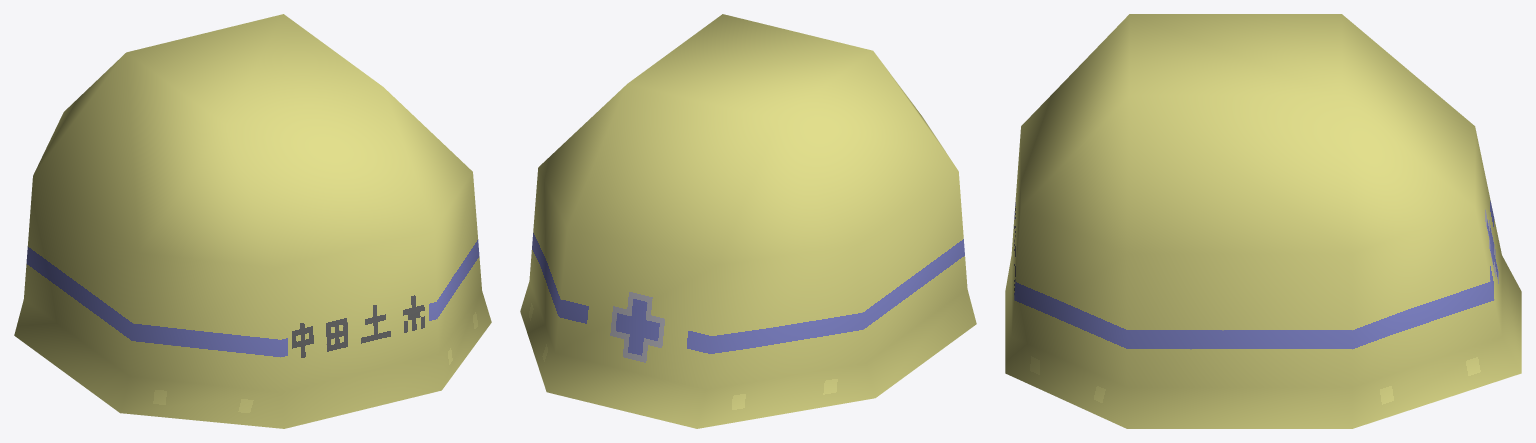
The model's file is 042b_Hard_Hat.glb.
The picture shows the model from 3 angles, left to right: view 1: azimuth 30°, elevation 25°; view 2: azimuth 150°, elevation 25°; view 3: azimuth 270°, elevation 25°; orthographic projection. The views are drawn at different scales.
Visible parts, largest first — view 1: part_0; view 2: part_0; view 3: part_0.
Part boxes in pixels (x1=…): part_0: x1=14, y1=14, x2=491, y2=428; part_0: x1=520, y1=14, x2=976, y2=428; part_0: x1=1005, y1=14, x2=1521, y2=428.
Bounding box in the file's own units: 0.2254 × 0.1512 × 0.2548.
Materials: 1 (1 with a texture image).
